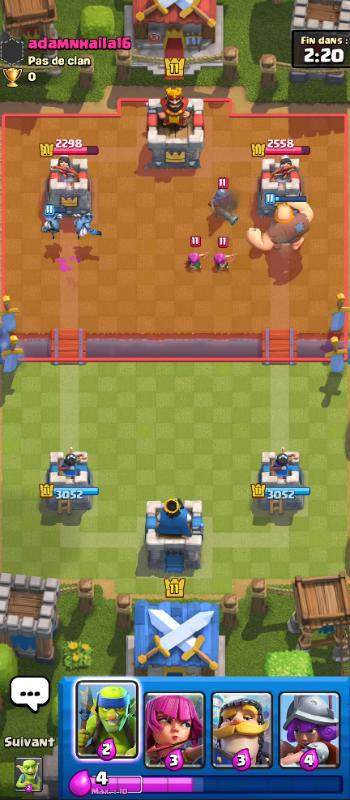archere: (207, 185, 242, 229), (210, 244, 237, 276), (186, 245, 210, 275)
gargouille: (69, 209, 103, 246), (41, 213, 65, 242)
geant: (244, 200, 315, 258)
